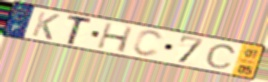7: (177, 34, 206, 65)
C: (131, 29, 165, 59), (203, 43, 238, 69)
H: (95, 21, 135, 54)
K: (30, 10, 62, 42)
T: (65, 15, 95, 47)
